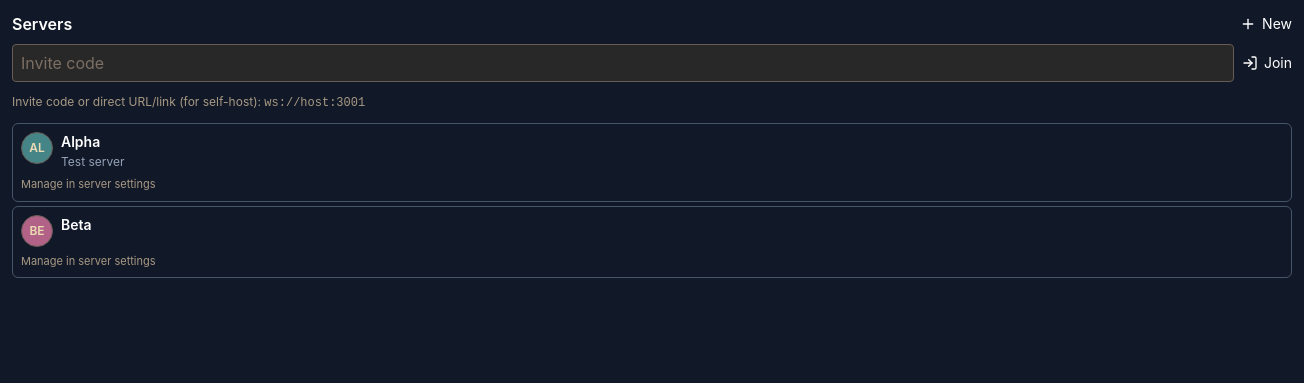
it: ServerList › direct joins via signaling URL and selects local pseudo-server
Type "ws://localhost:3301" into the field with placeholder "Invite code" at [623, 63], box x1=12 y1=44 x2=1234 y2=82
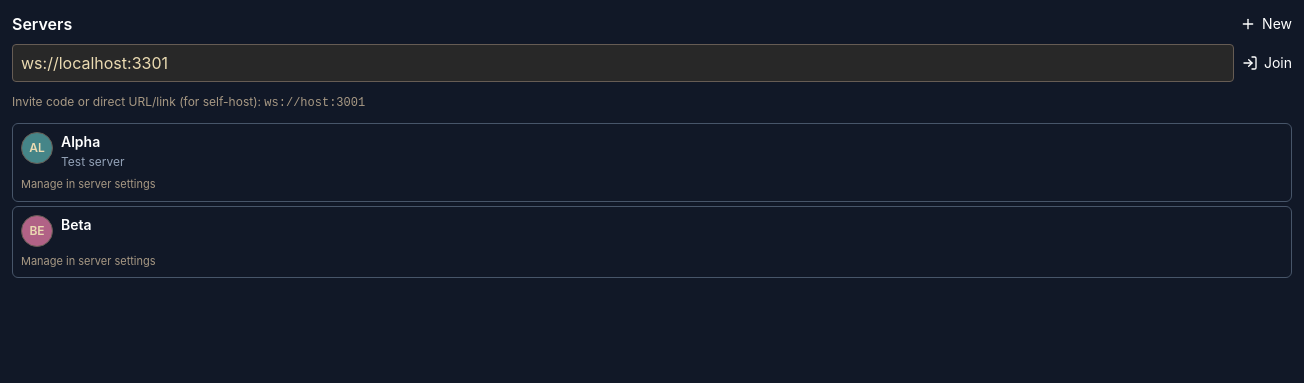
Click the button "Join" at [1267, 63], box x1=1242 y1=44 x2=1292 y2=82
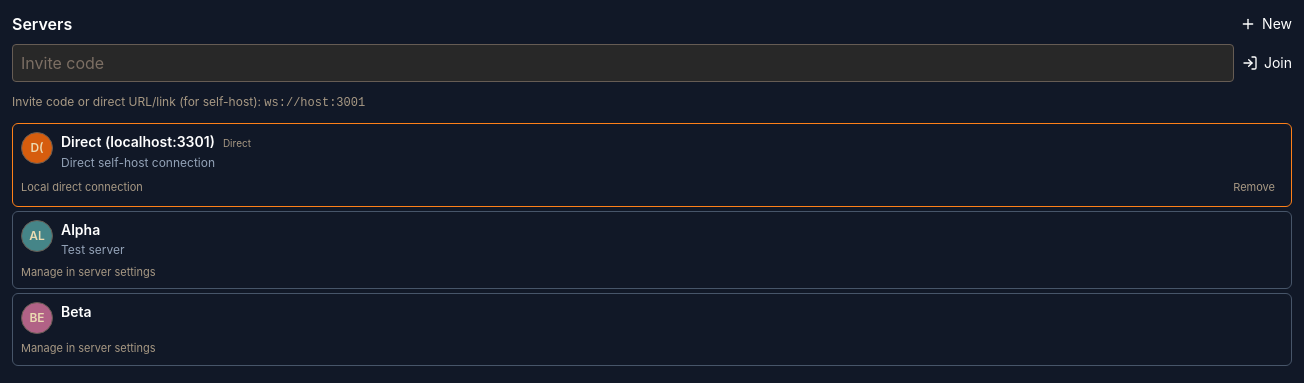
Expected: the heading "Direct (localhost:3301)Direct" is shown, x1=61 y1=133 x2=251 y2=150
